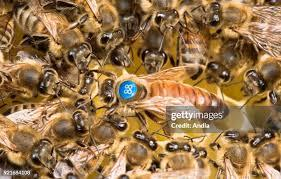Queen-Bee: (95, 69, 231, 120)
worker-bee: (11, 2, 100, 63), (199, 0, 281, 55), (0, 67, 62, 103)
